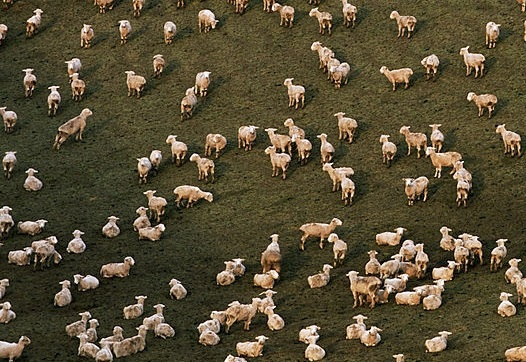sheep: (166, 177, 217, 213), (56, 104, 95, 151), (183, 150, 223, 193), (397, 170, 436, 210), (299, 217, 343, 251), (396, 123, 434, 161), (346, 270, 385, 305), (386, 9, 423, 44), (138, 186, 172, 224), (234, 113, 263, 157), (423, 145, 466, 174), (304, 5, 339, 38), (229, 332, 270, 360), (459, 226, 486, 268), (111, 331, 153, 358), (270, 1, 302, 36), (115, 289, 151, 320), (459, 46, 489, 82), (257, 234, 287, 270), (468, 90, 503, 120), (174, 86, 204, 121), (326, 232, 354, 269), (453, 234, 477, 276), (496, 120, 523, 157), (324, 162, 356, 193), (429, 258, 463, 287), (17, 214, 51, 243), (75, 334, 112, 360), (78, 318, 115, 344), (262, 122, 293, 153), (264, 147, 294, 179), (50, 279, 83, 308), (1, 333, 35, 361), (376, 66, 414, 91), (337, 1, 364, 36), (326, 61, 355, 93), (119, 68, 151, 97), (438, 222, 464, 257), (352, 317, 382, 347), (224, 299, 253, 330), (309, 41, 337, 73), (66, 310, 98, 338), (430, 123, 454, 159), (422, 283, 449, 315), (160, 133, 187, 165), (42, 83, 62, 126), (100, 257, 134, 282), (253, 289, 285, 315), (489, 238, 511, 275), (421, 53, 448, 83), (139, 304, 169, 331), (305, 264, 336, 290), (205, 129, 231, 160), (373, 227, 408, 250), (454, 161, 471, 208), (334, 115, 358, 148), (64, 227, 92, 255), (153, 21, 182, 48), (19, 166, 48, 193), (313, 132, 339, 162), (73, 264, 103, 290), (130, 154, 156, 184), (8, 243, 35, 271), (343, 312, 368, 342), (377, 134, 401, 165), (217, 256, 248, 280), (136, 224, 168, 247), (192, 327, 227, 348), (3, 149, 25, 182), (295, 322, 325, 346), (247, 269, 278, 292), (149, 317, 180, 340), (302, 337, 330, 362), (292, 134, 315, 164), (336, 170, 355, 206), (394, 287, 425, 309), (283, 116, 307, 144), (145, 53, 169, 81), (485, 18, 504, 53), (285, 80, 307, 110), (378, 273, 411, 293), (382, 252, 407, 278), (197, 9, 223, 34), (362, 243, 383, 273), (193, 313, 223, 334), (130, 209, 155, 234), (166, 277, 190, 303), (68, 74, 92, 100), (195, 69, 215, 99), (114, 19, 136, 46), (492, 287, 514, 313), (503, 256, 522, 286), (1, 297, 20, 326), (78, 25, 100, 50), (145, 149, 166, 173), (214, 264, 238, 284), (63, 55, 85, 76), (400, 238, 417, 261), (104, 328, 130, 343), (94, 340, 112, 360)
